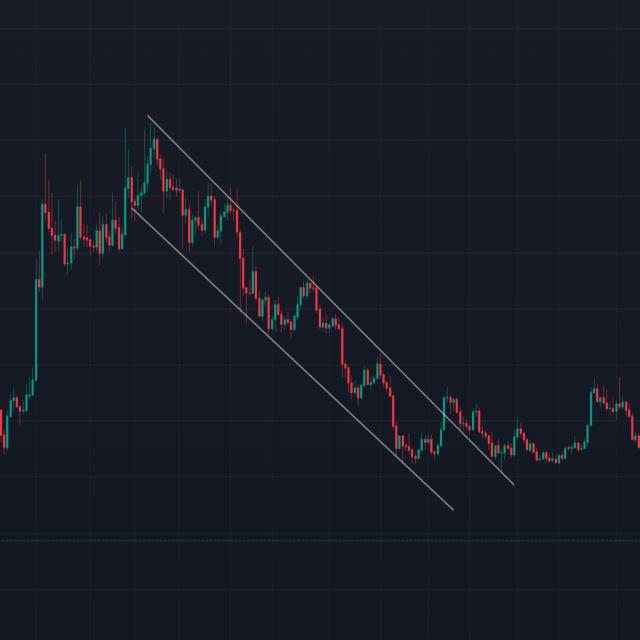Channel-down: (104, 103, 457, 488)
